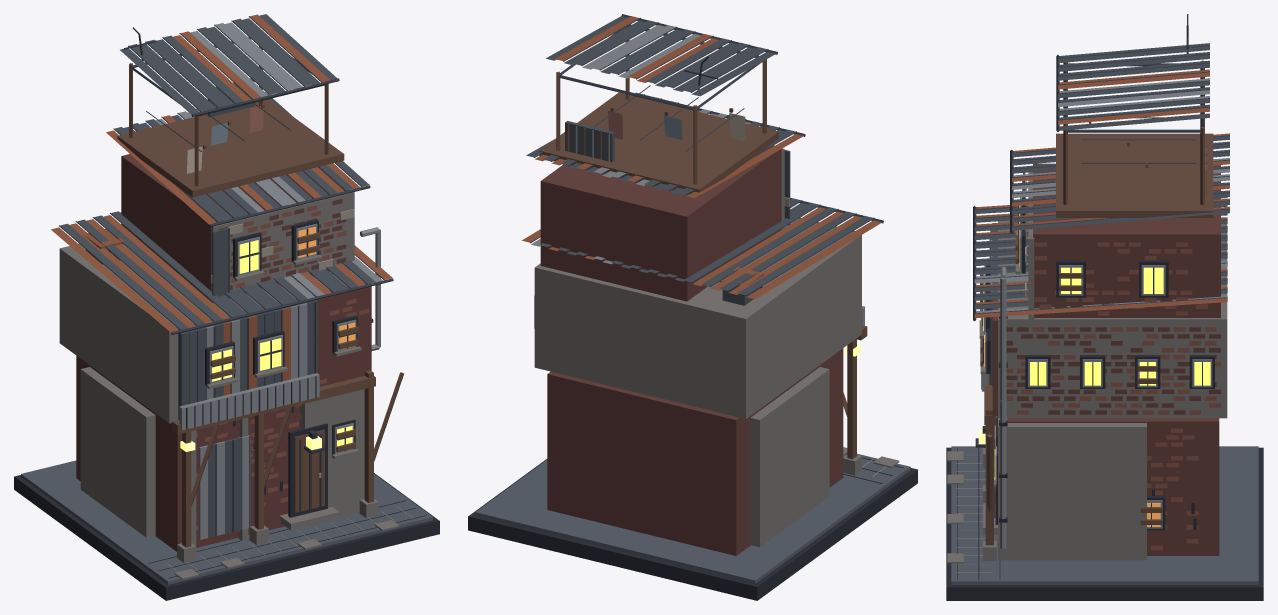
File: gotham_favela_03_8bit.glb
The picture shows the model from 3 angles, left to right: view 1: azimuth 30°, elevation 25°; view 2: azimuth 150°, elevation 25°; view 3: azimuth 270°, elevation 25°; orthographic projection. The views are drawn at different scales.
Parts seen in each view (by area): view 1: SM_Gotham_Favela_03_8bit; view 2: SM_Gotham_Favela_03_8bit; view 3: SM_Gotham_Favela_03_8bit.
Part boxes in pixels (<box>): SM_Gotham_Favela_03_8bit: <box>14,14,439,600</box>; SM_Gotham_Favela_03_8bit: <box>468,14,917,600</box>; SM_Gotham_Favela_03_8bit: <box>946,14,1263,600</box>.
Bounding box in the file's own units: 7.8 × 12.76 × 7.5.
